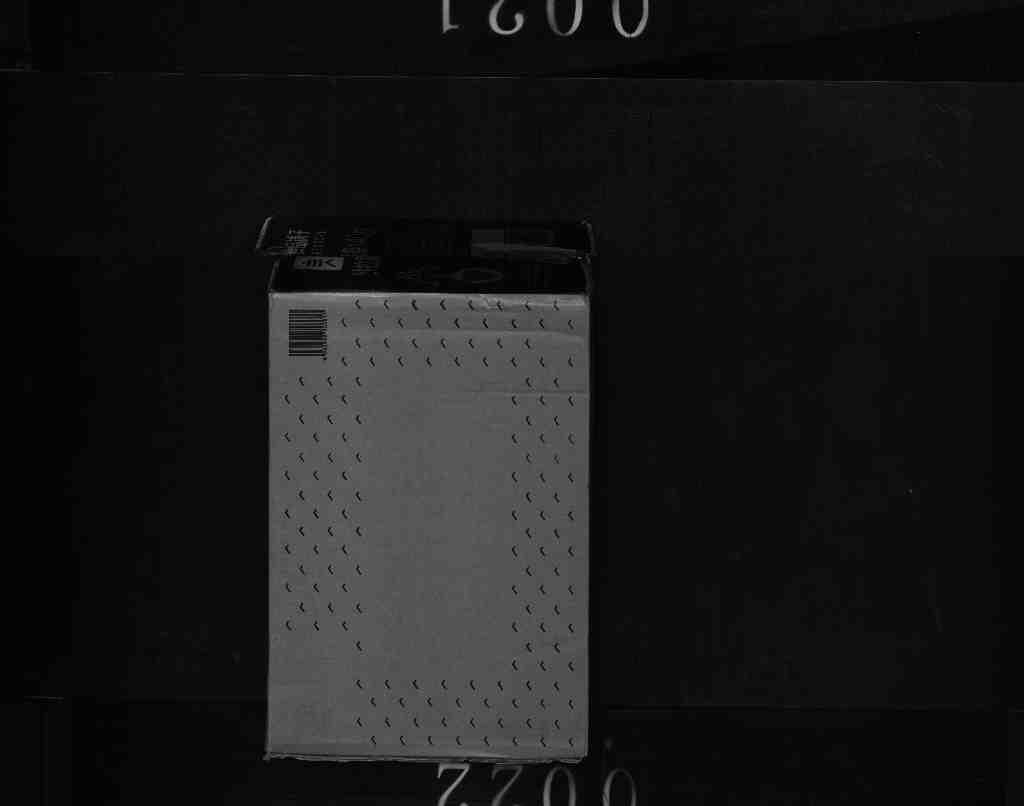box: (227, 206, 599, 772)
